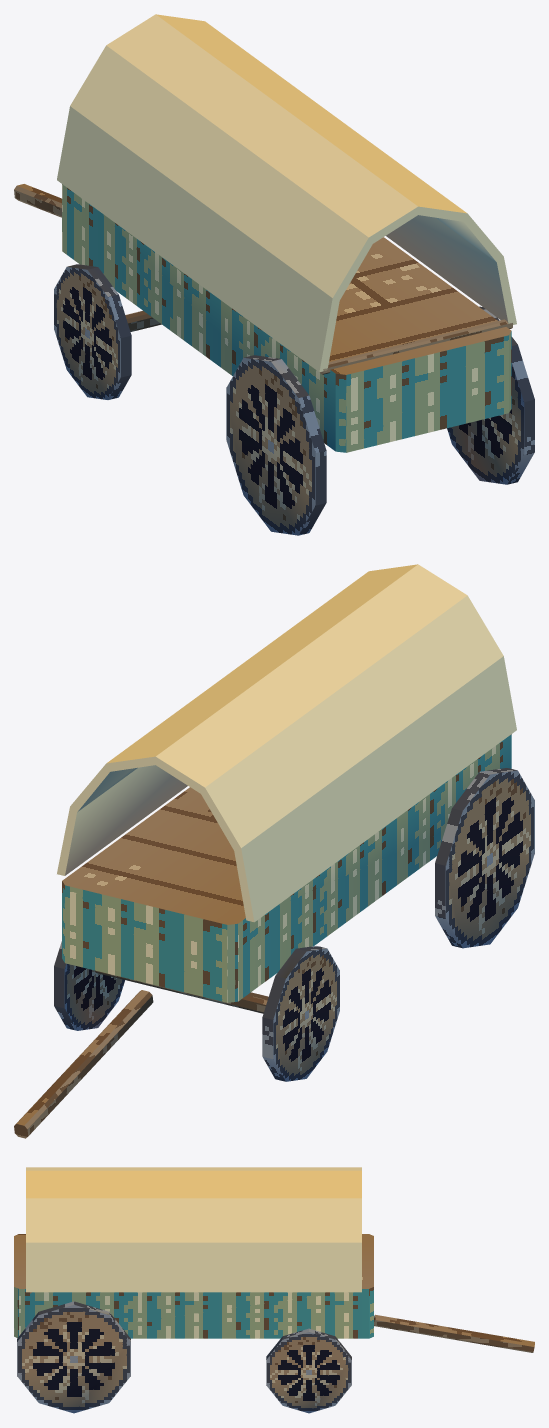
The model's file is wprop.wagon.glb.
The picture shows the model from 3 angles, top to bottom: view 1: azimuth 30°, elevation 25°; view 2: azimuth 150°, elevation 25°; view 3: azimuth 270°, elevation 25°; orthographic projection. The views are drawn at different scales.
Visible parts, largest first — view 1: kit_canvas, kit_box, kit_wheels, kit_bonnet, kit_tongue; view 2: kit_canvas, kit_box, kit_wheels, kit_tongue, kit_axles; view 3: kit_canvas, kit_wheels, kit_box, kit_tongue.
Boxes of the visible parts, x1,y1,x2,y2 form: kit_canvas: [57, 14, 516, 372]; kit_box: [62, 184, 511, 452]; kit_wheels: [54, 264, 534, 535]; kit_bonnet: [319, 319, 512, 374]; kit_tongue: [14, 184, 61, 217]; kit_canvas: [57, 564, 516, 922]; kit_box: [62, 734, 511, 1002]; kit_wheels: [54, 768, 534, 1081]; kit_tongue: [14, 990, 153, 1138]; kit_axles: [94, 970, 268, 1013]; kit_canvas: [26, 1167, 361, 1292]; kit_wheels: [17, 1301, 351, 1413]; kit_box: [14, 1234, 373, 1338]; kit_tongue: [374, 1314, 534, 1352].
Bounding box in the file's own units: 1.62 × 2.3 × 5.21.
Materials: 6 (6 with a texture image).
